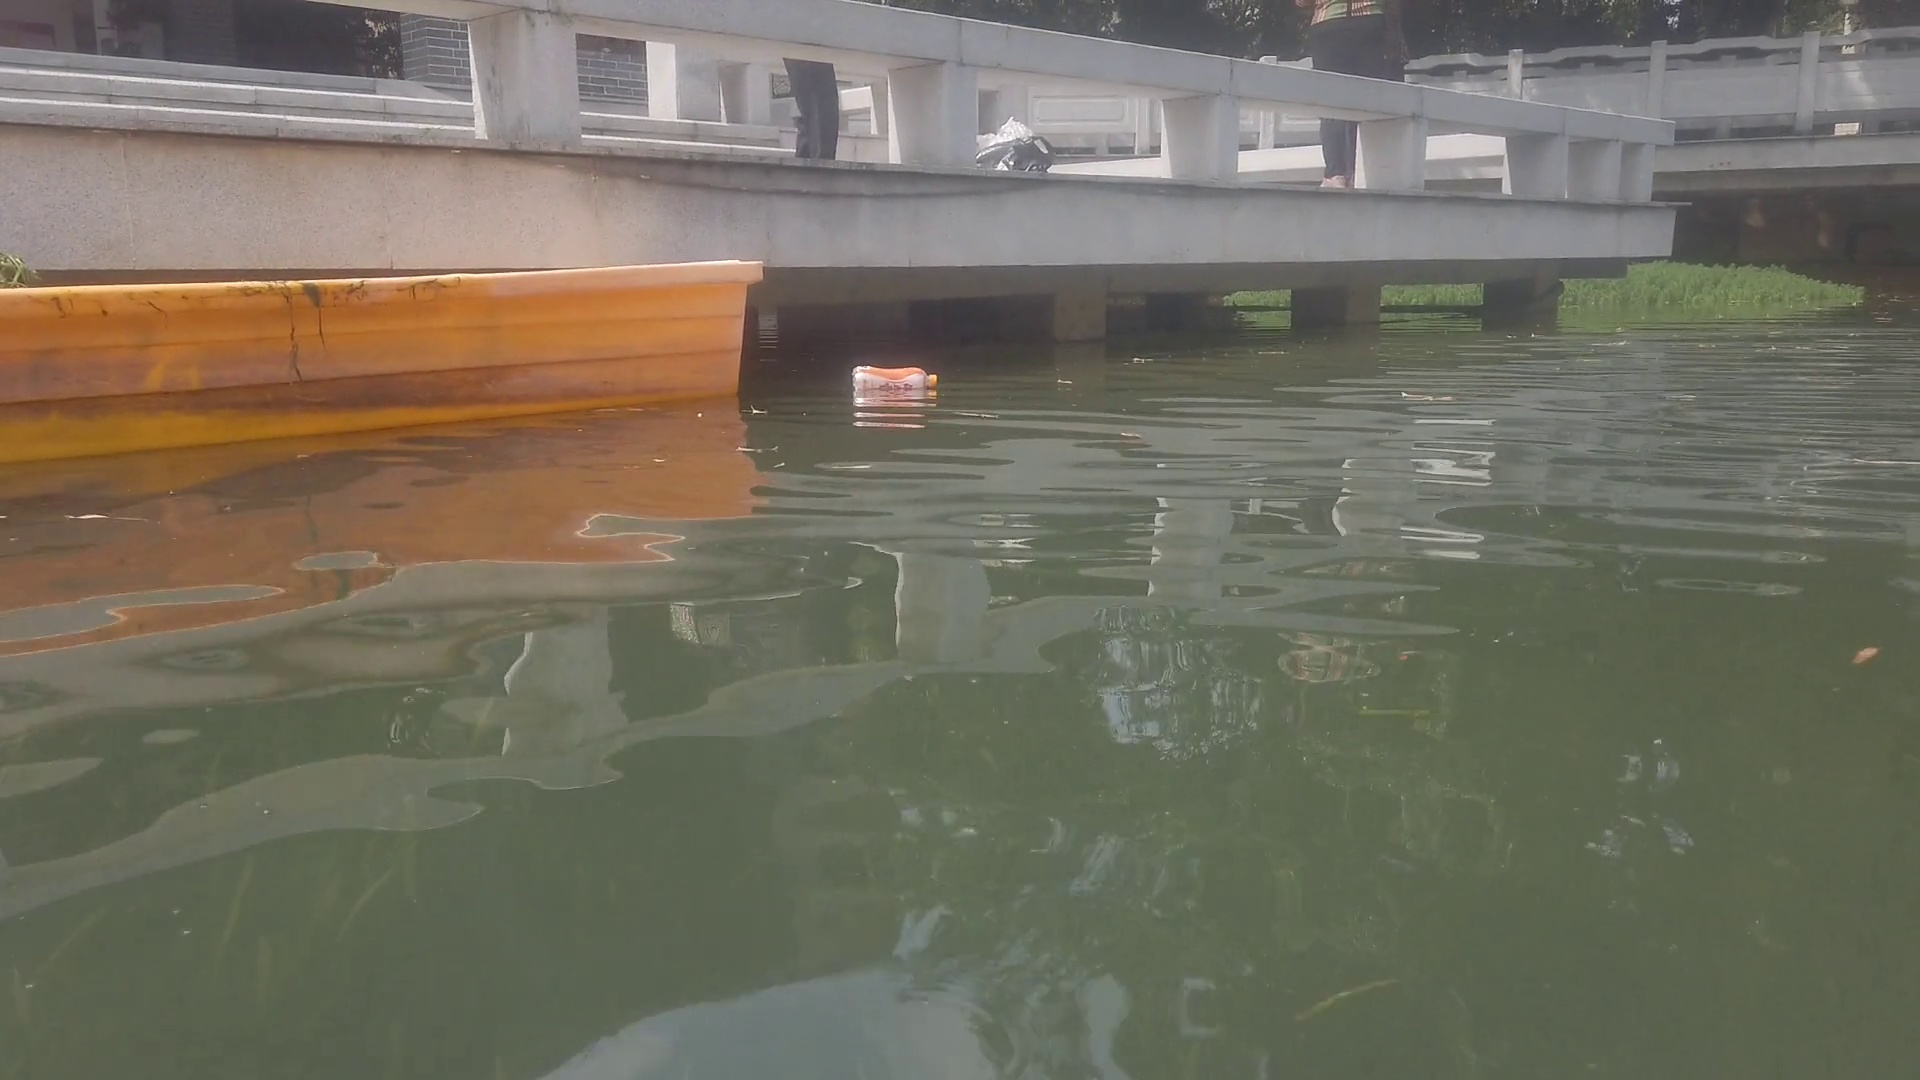bottle: (855, 361, 940, 396)
